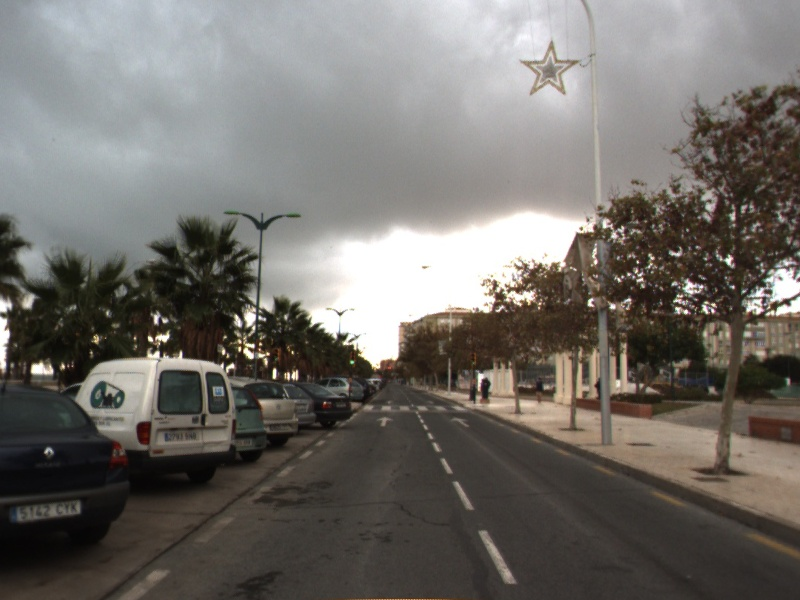STRAIGHT: (448, 415, 473, 429), (375, 415, 396, 428)
